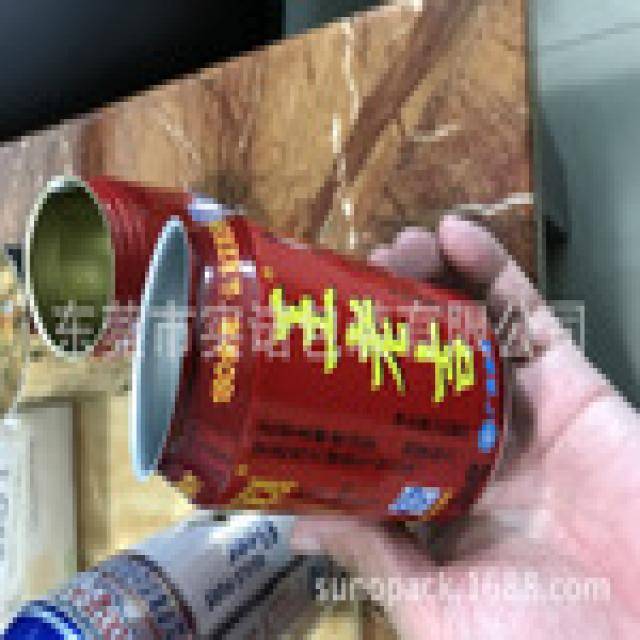-Recyclables - can-: (133, 215, 502, 520), (10, 507, 334, 640), (25, 174, 189, 361)
